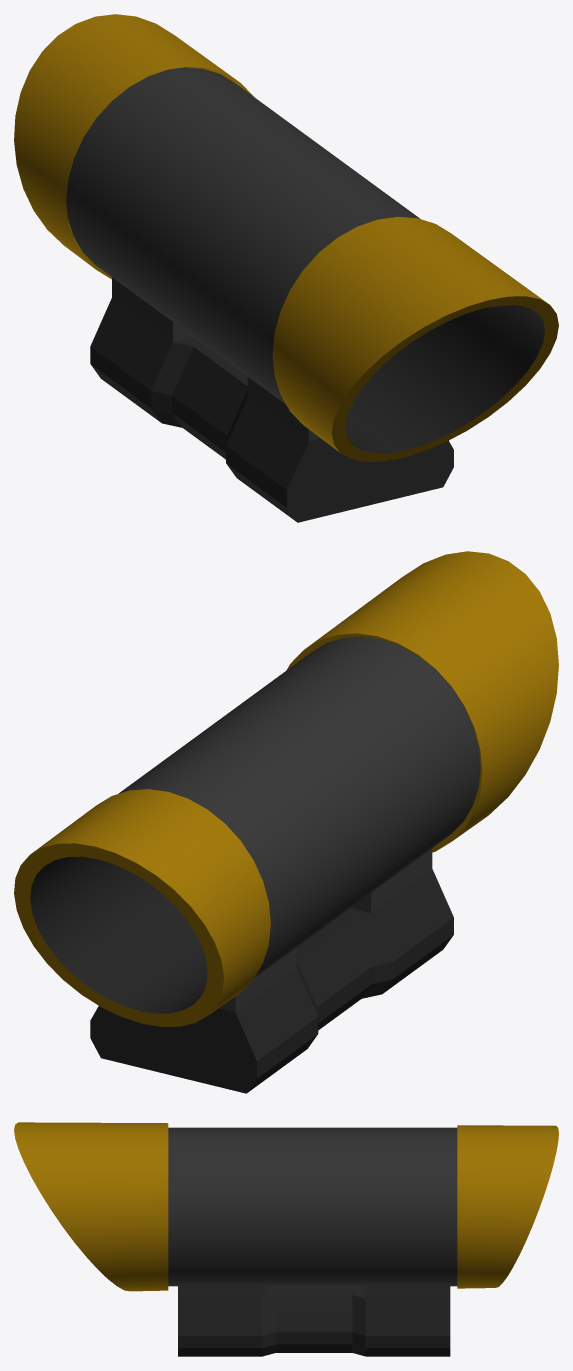
Rendered from scope_3.fbx.
3 renders of one model, top to bottom at view 1: azimuth 30°, elevation 25°; view 2: azimuth 150°, elevation 25°; view 3: azimuth 270°, elevation 25°, orthographic. The views are drawn at different scales.
Parts seen in each view (by area): view 1: scope_3; view 2: scope_3; view 3: scope_3.
Part boxes in pixels (x1,y1,x2,y2): scope_3: (14,14,558,522); scope_3: (14,551,558,1093); scope_3: (14,1122,558,1356).
Bounding box in the file's own units: 207 × 275 × 673.
